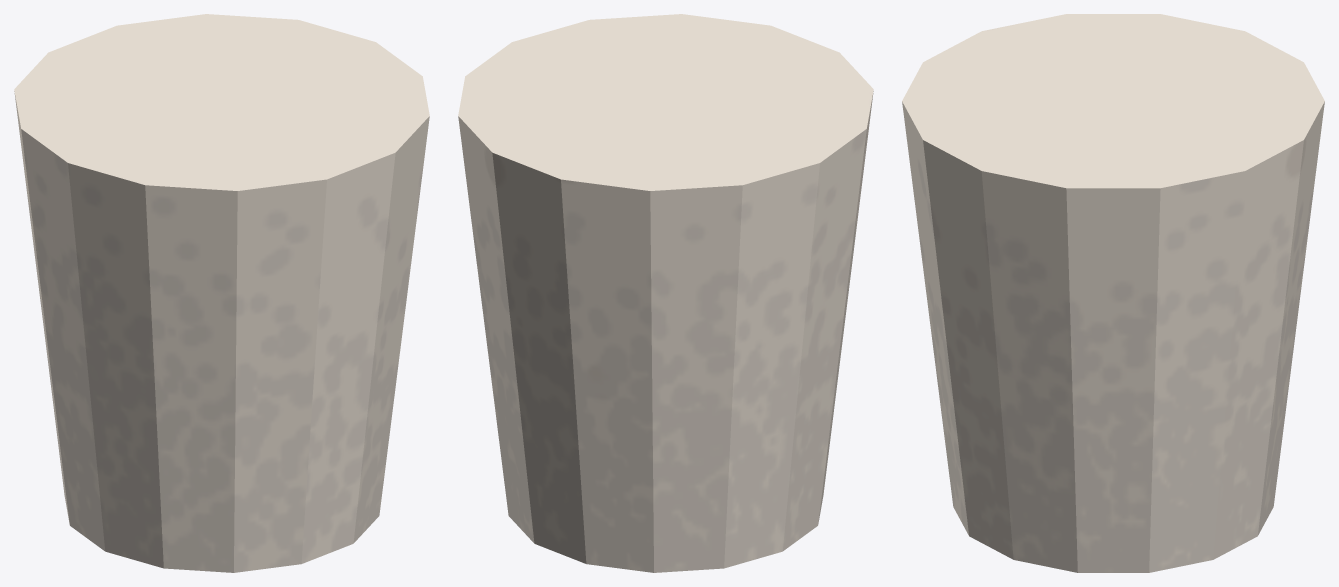
The model's file is Bottle_B_Cork.fbx.
3 renders of one model, left to right at view 1: azimuth 30°, elevation 25°; view 2: azimuth 150°, elevation 25°; view 3: azimuth 270°, elevation 25°, orthographic.
Visible parts, largest first — view 1: Bottle_B.001; view 2: Bottle_B.001; view 3: Bottle_B.001.
Boxes of the visible parts, box(x1,y1,x2,y2) form: Bottle_B.001: box(14, 14, 429, 572); Bottle_B.001: box(458, 14, 873, 572); Bottle_B.001: box(902, 14, 1324, 572).
Bounding box in the file's own units: 119 × 130 × 123.
1 material, 1 textured.
